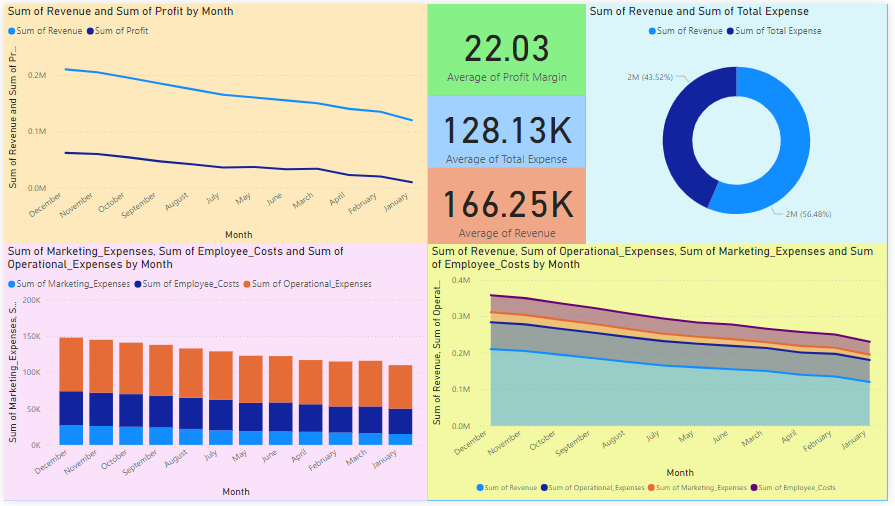

Layout of this report page (visuals, bound fields, positions):
{"tool":"powerbi","page":{"name":"Financial Dashboard","canvas":[1280,720],"ordinal":0},"visuals":[{"type":"lineChart","fields":{"Y":["Sum(Project 2.Revenue)","Sum(Project 2.Profit)"],"Category":["Project 2.Month"]},"box":[0,0,614.5,347.8],"z":0},{"type":"columnChart","fields":{"Category":["Project 2.Month"],"Y":["Sum(Project 2.Marketing_Expenses)","Sum(Project 2.Employee_Costs)","Sum(Project 2.Operational_Expenses)"]},"box":[0,347.8,614.5,372.5],"z":1000},{"type":"card","fields":{"Values":["Avg(Project 2.Profit Margin)"]},"box":[614.5,0,229,133.3],"z":2000},{"type":"card","fields":{"Values":["Avg(Project 2.Total Expense)"]},"box":[614.5,133.3,227.5,104.3],"z":3000},{"type":"donutChart","fields":{"Y":["Sum(Project 2.Revenue)","Sum(Project 2.Total Expense)"]},"box":[843.5,0,436.2,347.8],"z":4000},{"type":"stackedAreaChart","fields":{"Y":["Sum(Project 2.Revenue)","Sum(Project 2.Operational_Expenses)","Sum(Project 2.Marketing_Expenses)","Sum(Project 2.Employee_Costs)"],"Category":["Project 2.Month"]},"box":[614.5,347.8,665.2,371],"z":5000},{"type":"card","fields":{"Values":["Avg(Project 2.Revenue)"]},"box":[614.5,237.7,229,110.1],"z":6000}]}

Visuals, with their boxes in screenshot pixels (x1, y1, x2, y2), scaled from the page's 1280x720 canvas onto the 895x506 screenshot:
lineChart - Sum(Project 2.Revenue) x Sum(Project 2.Profit): [left=0, top=0, right=430, bottom=244]
columnChart - Project 2.Month x Sum(Project 2.Marketing_Expenses): [left=0, top=244, right=430, bottom=505]
card - Avg(Project 2.Profit Margin): [left=430, top=0, right=590, bottom=94]
card - Avg(Project 2.Total Expense): [left=430, top=94, right=589, bottom=167]
donutChart - Sum(Project 2.Revenue) x Sum(Project 2.Total Expense): [left=590, top=0, right=894, bottom=244]
stackedAreaChart - Sum(Project 2.Revenue) x Sum(Project 2.Operational_Expenses): [left=430, top=244, right=894, bottom=505]
card - Avg(Project 2.Revenue): [left=430, top=167, right=590, bottom=244]
